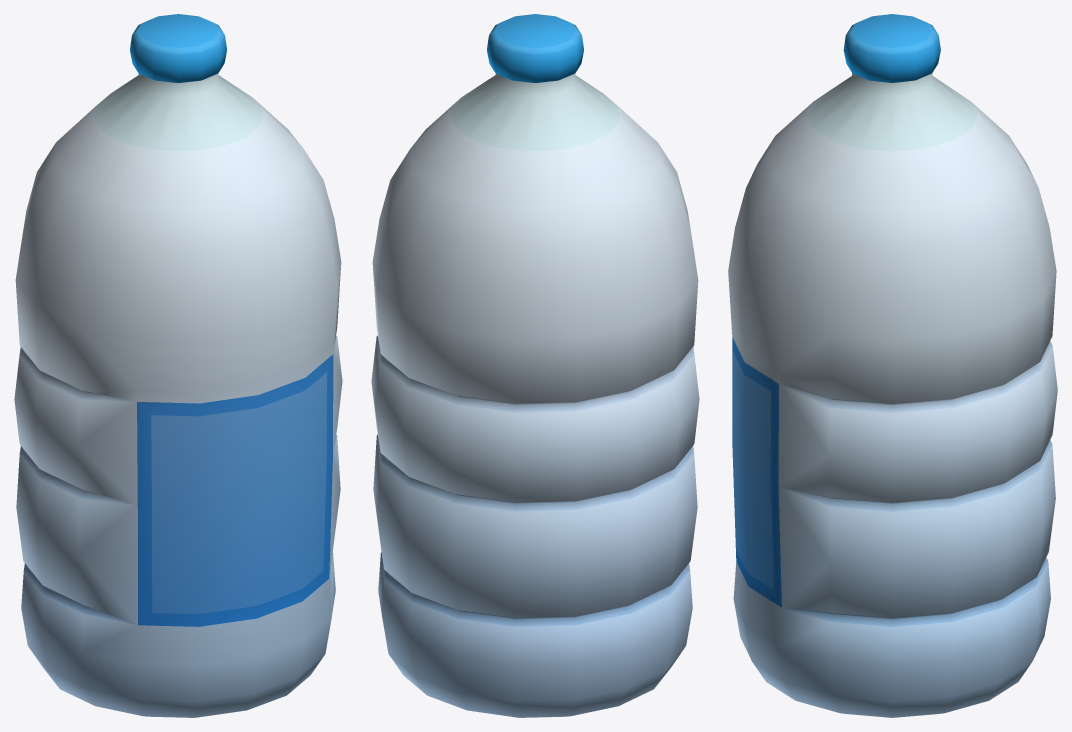
File: milk_001.fbx
3 renders of one model, left to right at view 1: azimuth 30°, elevation 25°; view 2: azimuth 150°, elevation 25°; view 3: azimuth 270°, elevation 25°, orthographic.
Parts seen in each view (by area): view 1: milk_001; view 2: milk_001; view 3: milk_001.
Part boxes in pixels (left/top/right/bottom): milk_001: left=14, top=14, right=342, bottom=717; milk_001: left=371, top=14, right=699, bottom=717; milk_001: left=728, top=14, right=1057, bottom=717.
Size of the model in its own units: 13.58 by 13.53 by 29.14.
